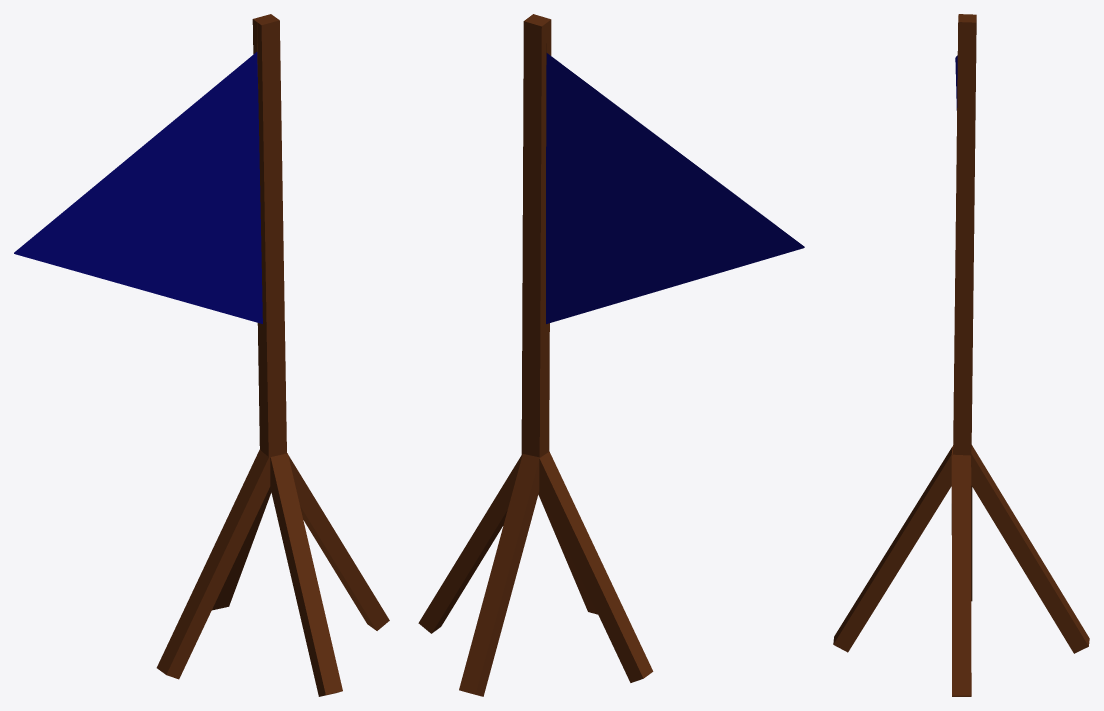
File: Flag.fbx
3 views of the same model, side by side, from view 1: azimuth 30°, elevation 25°; view 2: azimuth 150°, elevation 25°; view 3: azimuth 270°, elevation 25° (orthographic).
Visible parts, largest first — view 1: Flag; view 2: Flag; view 3: Flag.
Part boxes in pixels (bbox=[...]): Flag: bbox=[14, 14, 389, 696]; Flag: bbox=[418, 14, 804, 696]; Flag: bbox=[833, 14, 1089, 696].
Bounding box in the file's own units: 164 × 264 × 97.54.
